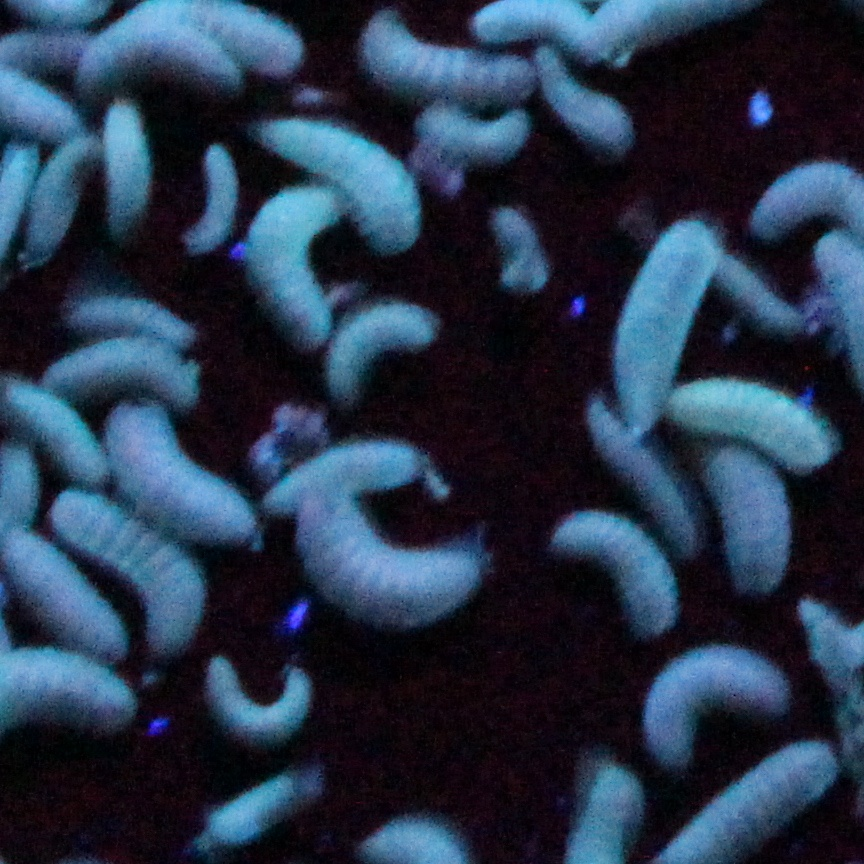larve: (300, 507, 489, 638), (57, 488, 197, 653), (609, 210, 716, 415), (115, 409, 257, 560), (546, 508, 678, 639), (634, 648, 788, 755), (355, 17, 522, 109), (249, 185, 337, 359), (4, 536, 133, 652), (678, 389, 843, 475), (702, 447, 794, 592), (282, 430, 429, 516), (35, 339, 201, 410), (537, 54, 635, 164), (208, 660, 318, 743), (30, 138, 103, 254), (334, 307, 431, 393), (587, 411, 674, 498), (67, 286, 199, 341), (104, 105, 151, 244), (422, 109, 536, 166), (179, 148, 245, 244), (92, 46, 234, 83)
